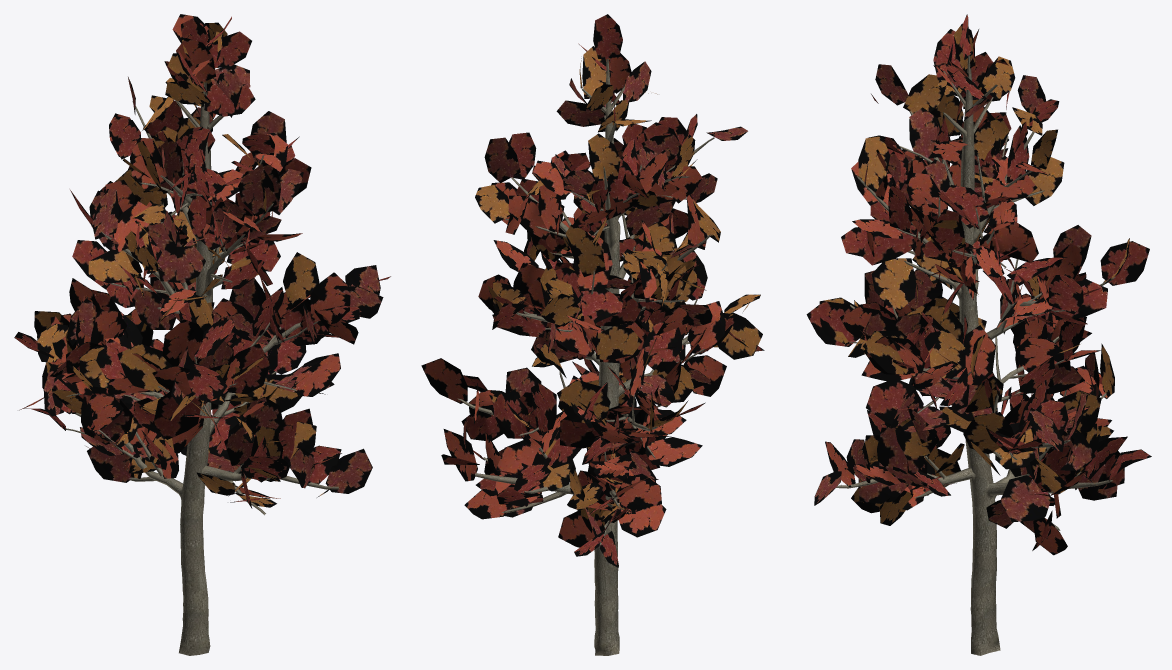
Rendered from Oak_White_Desktop_Field_3_002_Red_5667e0.glb.
The picture shows the model from 3 angles, left to right: view 1: azimuth 30°, elevation 25°; view 2: azimuth 150°, elevation 25°; view 3: azimuth 270°, elevation 25°; orthographic projection. The views are drawn at different scales.
Bounding box in the file's own units: 5.78 × 11.8 × 6.18.
2 materials, 2 textured.
